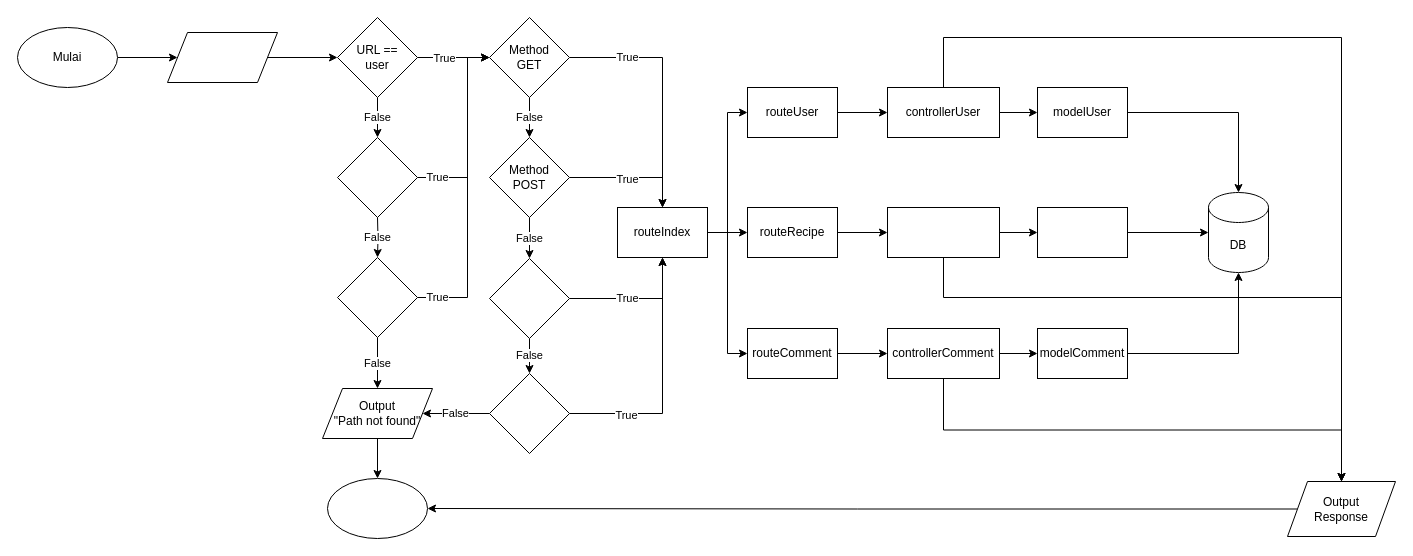
The diagram is 1413 pixels wide and 556 high, and some of its shapes have lost their labels. The shapes that lost their labels are listed below. From the top down, each one's centre as x and y in pixels, then its label:
At (222,57): "Input URL".
At (377,177): "URL == recipe".
At (943,232): "controllerRecipe".
At (1082,232): "modelRecipe".
At (377,297): "URL == comment".
At (529,298): "Method PUT".
At (529,413): "Method DELETE".
At (377,508): "Selesai".
